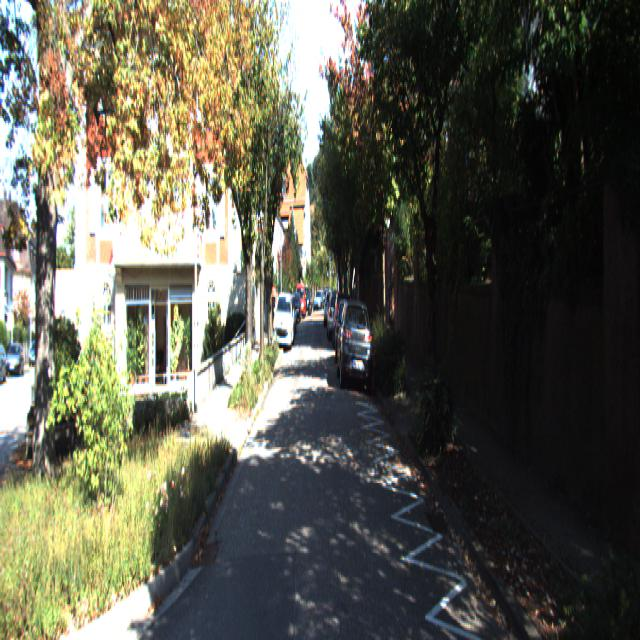Car: (334, 296, 372, 399), (335, 299, 357, 370), (331, 288, 352, 352), (272, 292, 293, 353)
